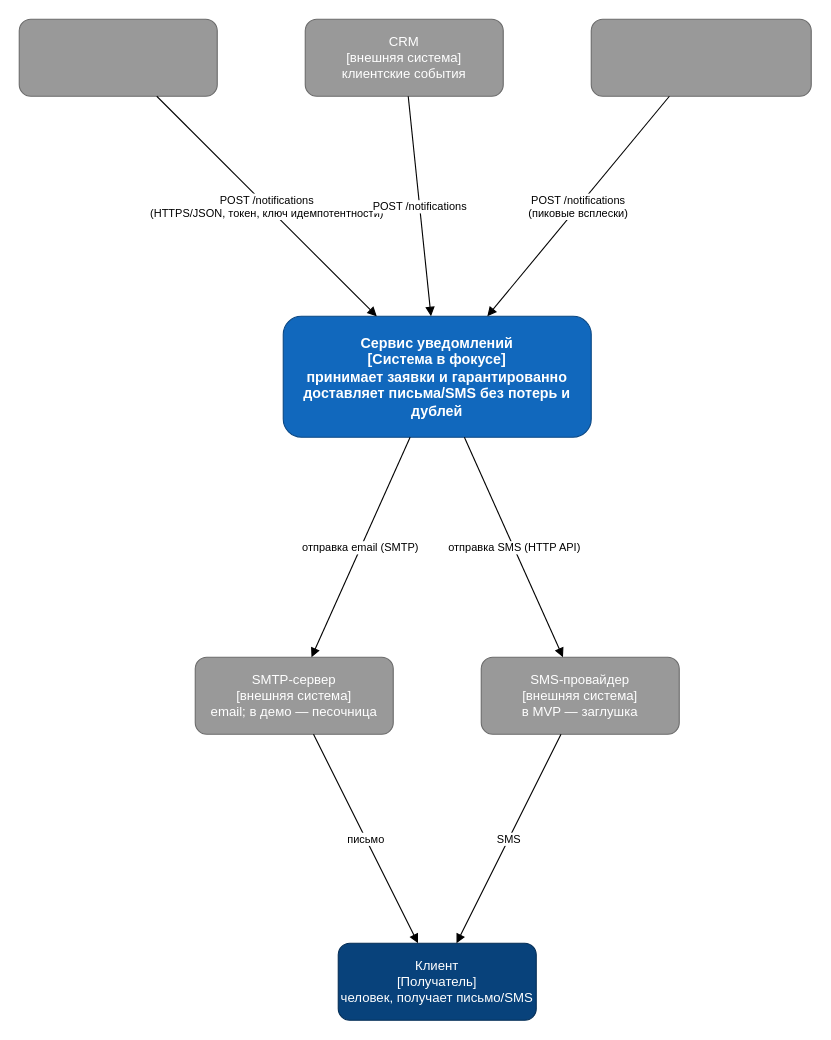
Some shapes in this 831 by 1040 pixel diagram are drawn without their labels. Each missing label, with the centre of its shape:
Маркетинговая платформа [внешняя система] массовые рассылки (пики): pixel 700 57
Монолит [внешняя система] бизнес-события: pixel 117 57
